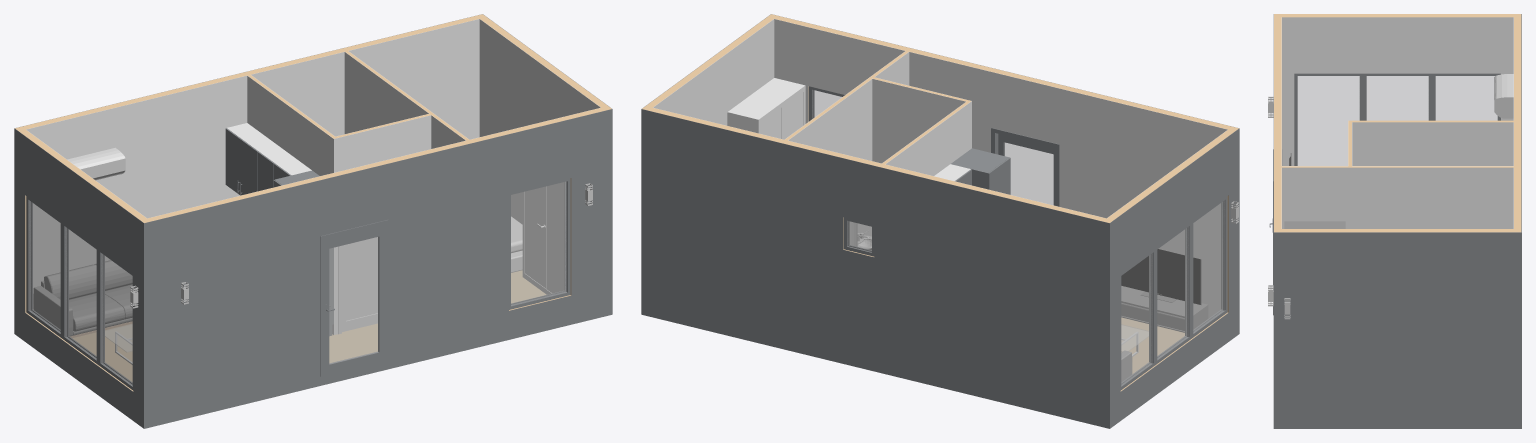
The model's file is Violeta.zeleznova_(3,6x6,5m)_R01.fbx.
3 views of the same model, side by side, from view 1: azimuth 30°, elevation 25°; view 2: azimuth 150°, elevation 25°; view 3: azimuth 270°, elevation 25° (orthographic). The views are drawn at different scales.
Parts seen in each view (by area): view 1: IfcWall/Part:2319977, IfcWall/Part:2319982, IfcWall/Part:2347281, IfcWindow/Aluprof_MB-86-SI_E_Alu_Window-1sash-FIX_ENG_R-000. (×2), IfcDoor/Simple_vitree_-_03:1000x2100:2303655, IfcWall/Part:2319979, IfcFurnishingElement/Bolia - North Seater Sofa:2 1/2 Seater:, IfcFurnishingElement/Cabinet_-_Storage:1300 x 500 x 2100mm:2, IfcWindow/Aluprof_MB-86-SI_E_Alu_Window-1sash-FIX_ENG_R-000, IfcWindow/Aluprof_MB-86-SI_E_Alu_Window-1sash-FIX_ENG_R-0004, IfcWall/Part:2321694, IfcWall/Part:2319970 (+14 smaller); view 2: IfcWall/Part:2319983, IfcWall/Part:2319976, IfcWall/Part:2347281, IfcWall/Part:2319979, IfcWindow/Aluprof_MB-86-SI_E_Alu_Window-1sash-FIX_ENG_R-0004 (×2), IfcWindow/Aluprof_MB-86-SI_E_Alu_Window-1sash-FIX_ENG_R-000. (×2), IfcWall/Part:2319971, IfcWindow/Aluprof_MB-86-SI_E_Alu_Window-1sash-FIX_ENG_R-000, IfcWall/Part:2321861, IfcDoor/Simple_vitree_-_03:1000x2100:2303655, IfcFurnishingElement/Cabinet_-_Storage:1300 x 500 x 2100mm:2, IfcWall/Part:2321694 (+10 smaller); view 3: IfcWall/Part:2319980, IfcWall/Part:2347280, IfcWall/Part:2319967, IfcWall/Part:2321693, IfcWindow/Aluprof_MB-86-SI_E_Alu_Window-1sash-FIX_ENG_R-000., IfcWindow/Aluprof_MB-86-SI_E_Alu_Window-1sash-FIX_ENG_R-0004, IfcWindow/Aluprof_MB-86-SI_E_Alu_Window-1sash-FIX_ENG_R-000, IfcWall/Part:2319984, IfcWall/Part:2319978, IfcWall/Part:2319981, IfcWall/Part:2347282, IfcEnergyConversionDevice/Fujitsu General_ASUA30-36TLAV2:ASU (+4 smaller).
Boxes of the visible parts, x1,y1,x2,y2 form: IfcWall/Part:2319977: [144, 109, 612, 428]; IfcWall/Part:2319982: [26, 19, 479, 309]; IfcWall/Part:2347281: [14, 128, 143, 428]; IfcWindow/Aluprof_MB-86-SI_E_Alu_Window-1sash-FIX_ENG_R-000. (×2): [99, 178, 570, 390]; IfcDoor/Simple_vitree_-_03:1000x2100:2303655: [320, 220, 388, 376]; IfcWall/Part:2319979: [479, 19, 600, 224]; IfcFurnishingElement/Bolia - North Seater Sofa:2 1/2 Seater:: [33, 260, 132, 337]; IfcFurnishingElement/Cabinet_-_Storage:1300 x 500 x 2100mm:2: [522, 182, 564, 294]; IfcWindow/Aluprof_MB-86-SI_E_Alu_Window-1sash-FIX_ENG_R-000: [26, 196, 62, 338]; IfcWindow/Aluprof_MB-86-SI_E_Alu_Window-1sash-FIX_ENG_R-0004: [62, 223, 98, 365]; IfcWall/Part:2321694: [247, 76, 333, 334]; IfcWall/Part:2319970: [334, 115, 431, 334]; IfcWall/Part:2319983: [641, 109, 1109, 428]; IfcWall/Part:2319976: [774, 19, 1227, 318]; IfcWall/Part:2347281: [1110, 128, 1239, 428]; IfcWall/Part:2319979: [653, 19, 774, 125]; IfcWindow/Aluprof_MB-86-SI_E_Alu_Window-1sash-FIX_ENG_R-0004 (×2): [843, 217, 1191, 364]; IfcWindow/Aluprof_MB-86-SI_E_Alu_Window-1sash-FIX_ENG_R-000. (×2): [808, 86, 1227, 338]; IfcWall/Part:2319971: [872, 78, 965, 163]; IfcWindow/Aluprof_MB-86-SI_E_Alu_Window-1sash-FIX_ENG_R-000: [1120, 249, 1155, 390]; IfcWall/Part:2321861: [788, 79, 872, 236]; IfcDoor/Simple_vitree_-_03:1000x2100:2303655: [991, 128, 1059, 206]; IfcFurnishingElement/Cabinet_-_Storage:1300 x 500 x 2100mm:2: [727, 78, 805, 139]; IfcWall/Part:2321694: [886, 101, 971, 175]; IfcWall/Part:2319980: [1273, 232, 1521, 428]; IfcWall/Part:2347280: [1282, 17, 1513, 165]; IfcWall/Part:2319967: [1282, 167, 1513, 228]; IfcWall/Part:2321693: [1352, 122, 1513, 165]; IfcWindow/Aluprof_MB-86-SI_E_Alu_Window-1sash-FIX_ENG_R-000.: [1294, 73, 1364, 165]; IfcWindow/Aluprof_MB-86-SI_E_Alu_Window-1sash-FIX_ENG_R-0004: [1362, 73, 1433, 120]; IfcWindow/Aluprof_MB-86-SI_E_Alu_Window-1sash-FIX_ENG_R-000: [1431, 73, 1500, 120]; IfcWall/Part:2319984: [1514, 14, 1521, 232]; IfcWall/Part:2319978: [1274, 14, 1281, 228]; IfcWall/Part:2319981: [1274, 229, 1513, 232]; IfcWall/Part:2347282: [1281, 14, 1513, 17]; IfcEnergyConversionDevice/Fujitsu General_ASUA30-36TLAV2:ASU: [1494, 74, 1513, 118].
Size of the model in its own units: 766 by 315 by 368.
